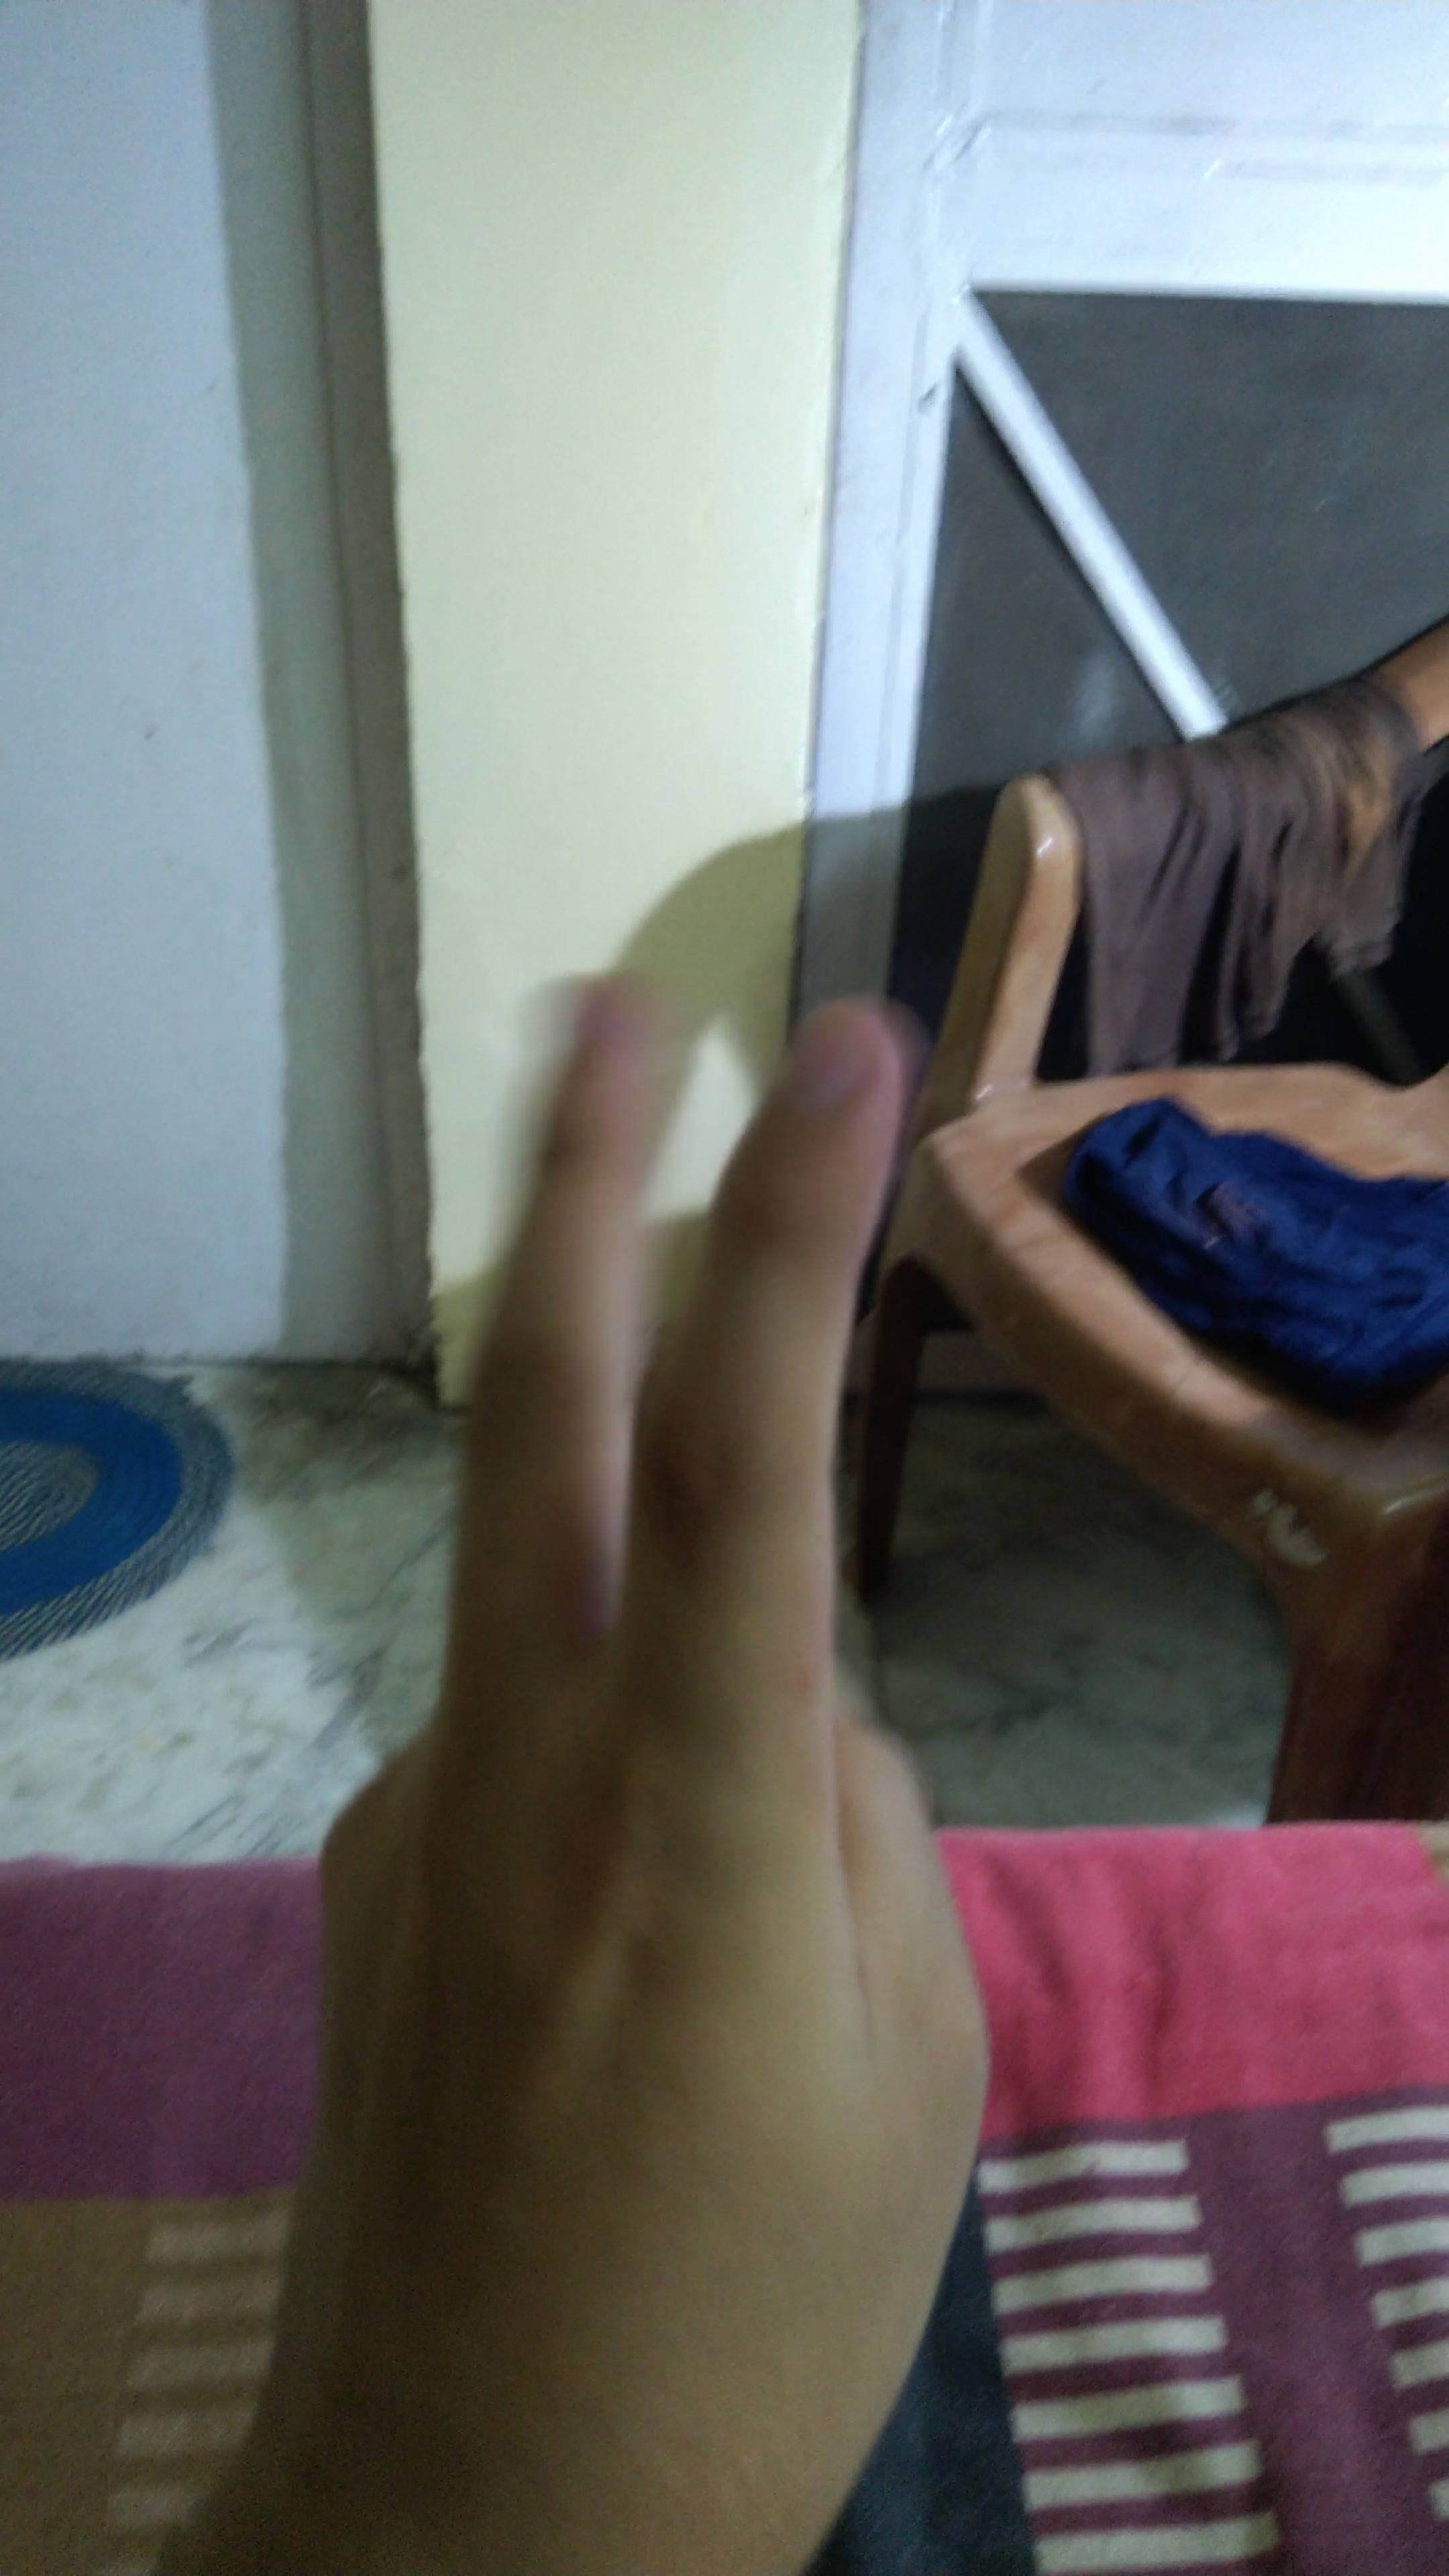hand: (122, 947, 1169, 2518)
